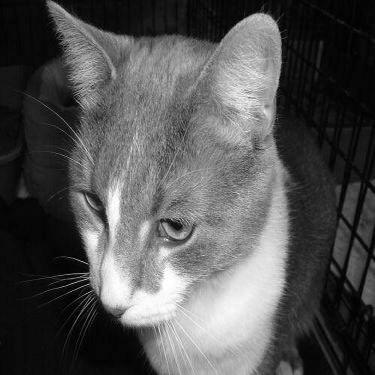cat: (47, 3, 339, 373)
